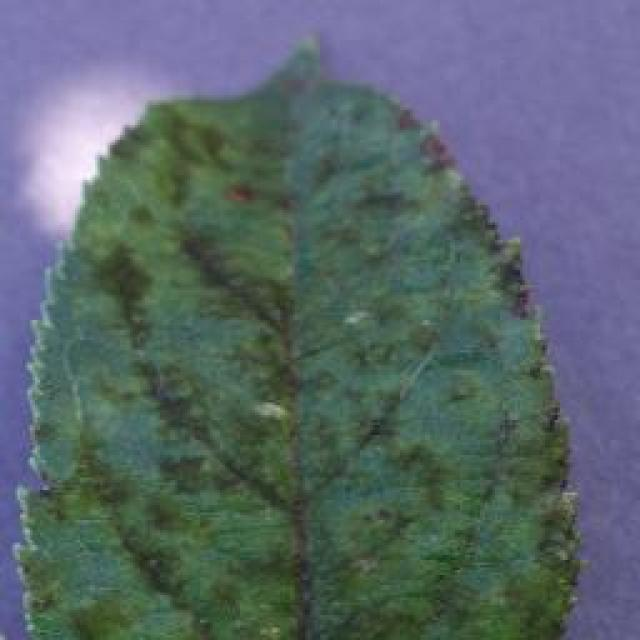apple scab disease: (10, 32, 585, 638)
